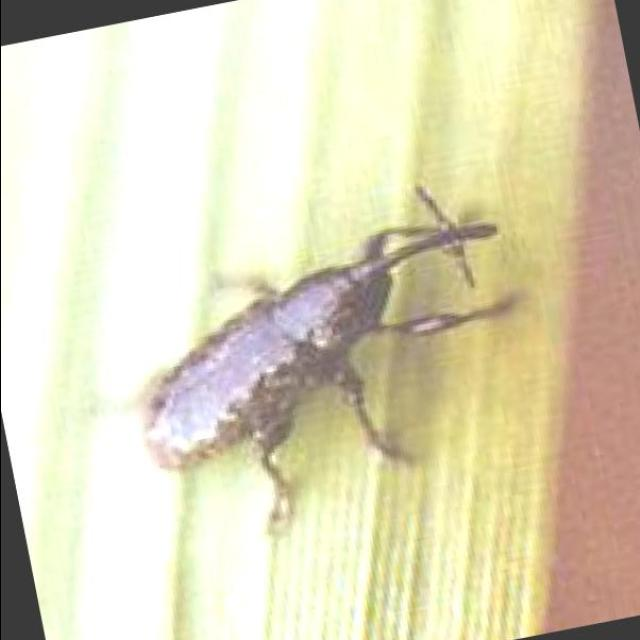ricebug: (136, 187, 511, 525)
